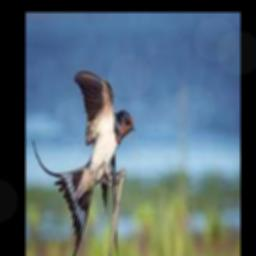Swallow: (32, 71, 133, 256)
